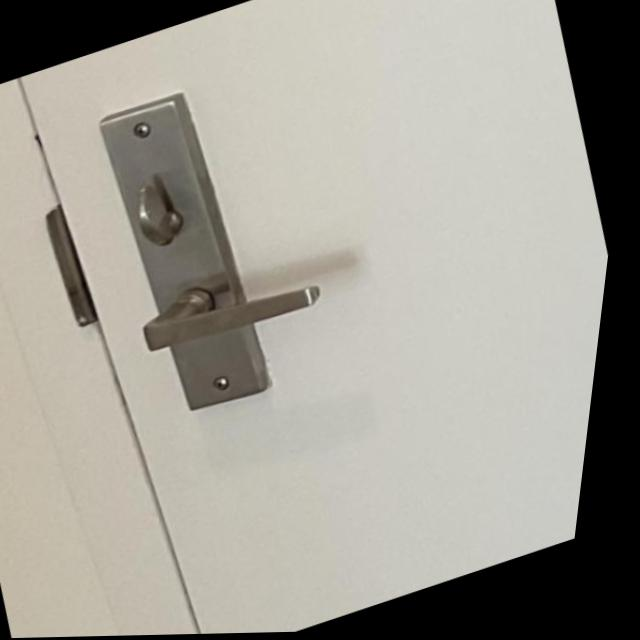door_handle: (117, 227, 379, 387)
